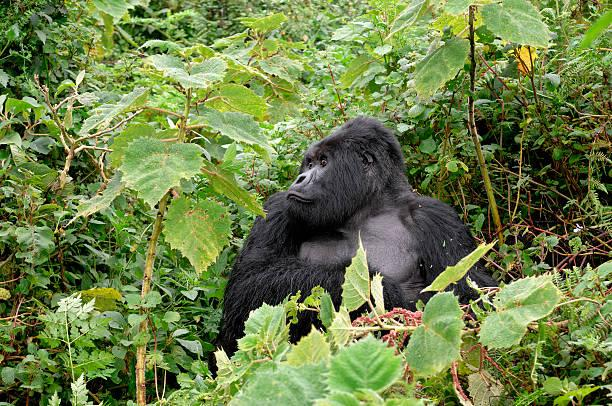goriile_montagne: (220, 112, 492, 329)
